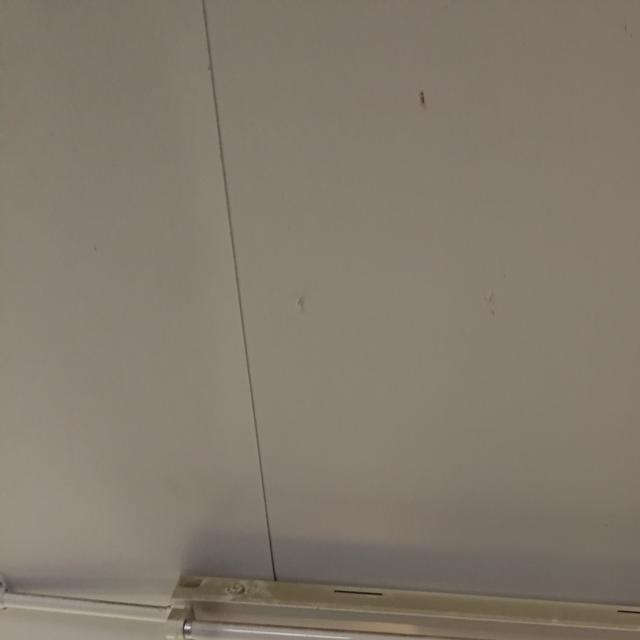fluorescent tube: (156, 552, 639, 640)
